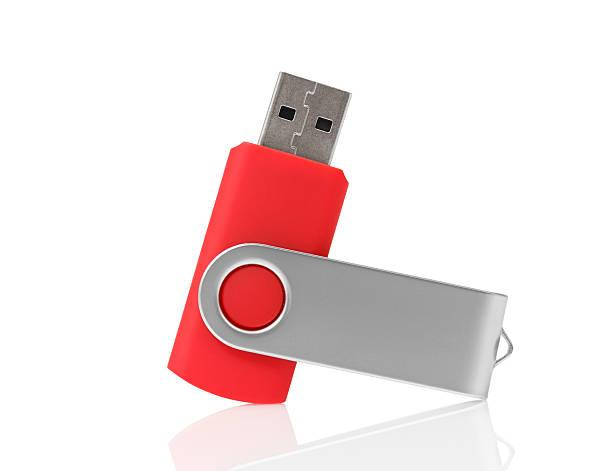USB Flash Drive: (167, 72, 352, 407)
